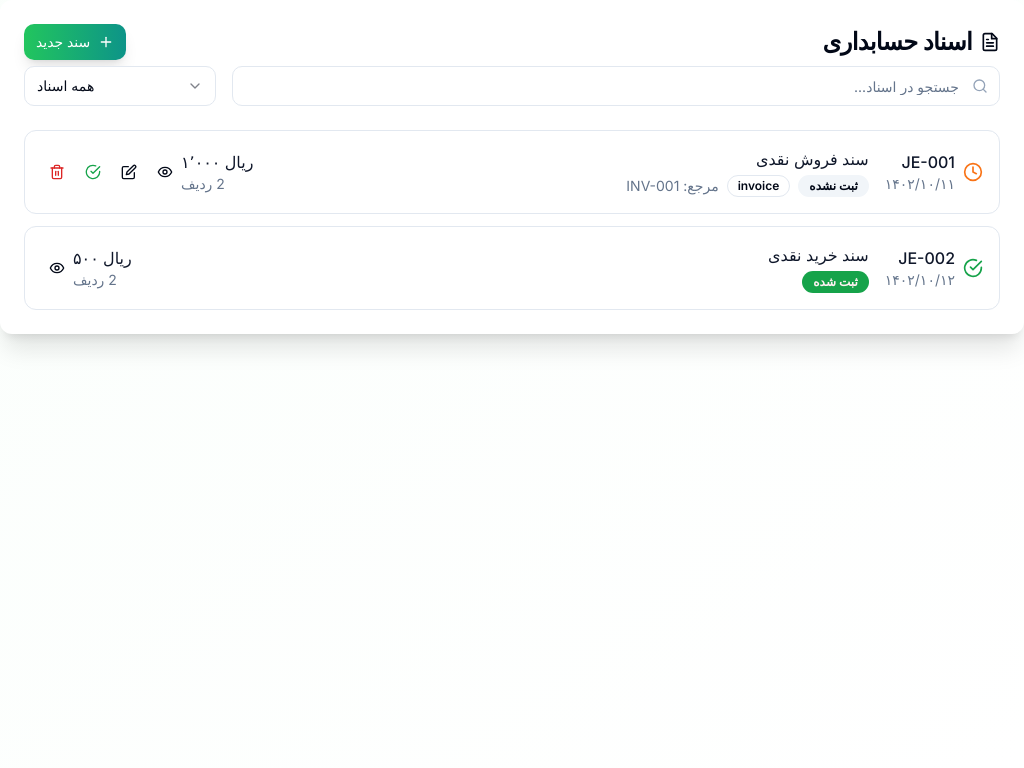
Test: JournalEntries › should open create form when "سند جدید" is clicked
Step 1. Click the button "سند جدید" → (75, 42), box left=24, top=24, right=126, bottom=60
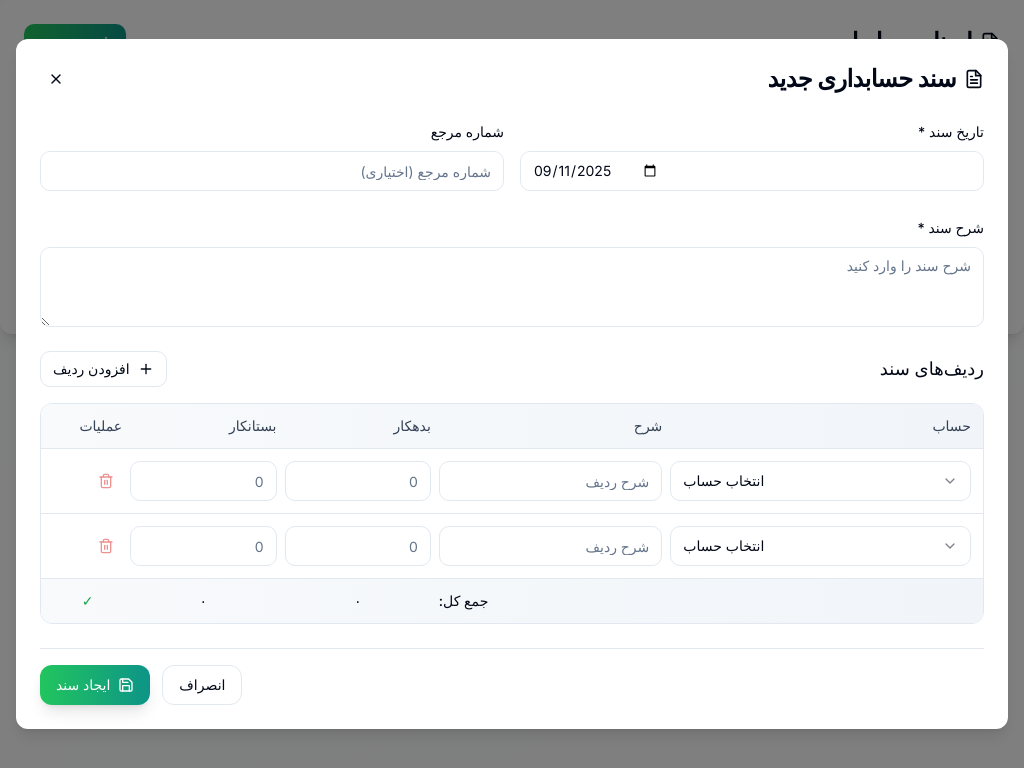
Expected: the heading "سند حسابداری جدید" is shown, left=768, top=67, right=984, bottom=91
